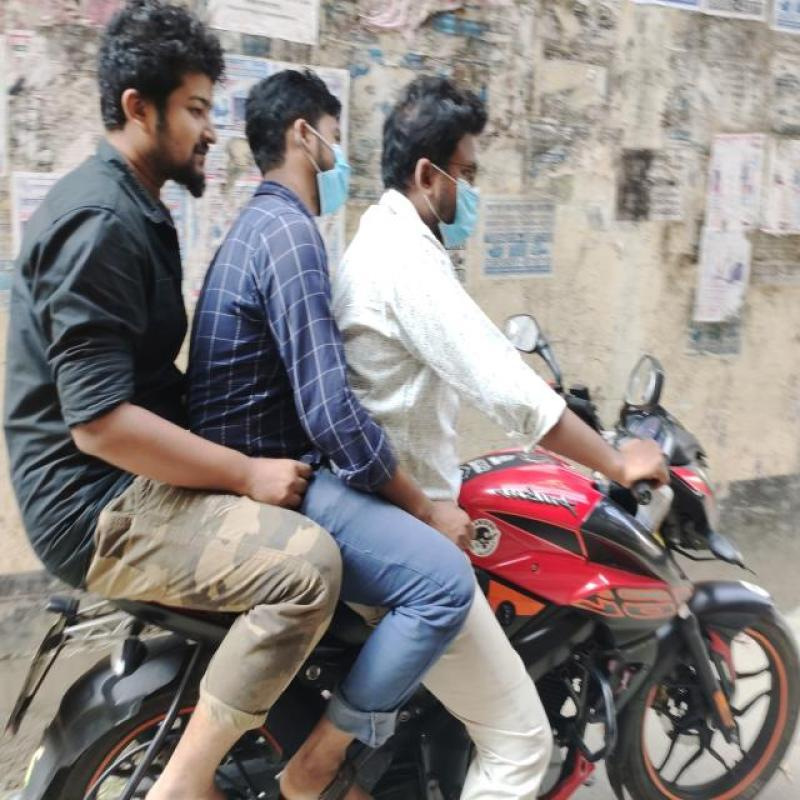nohelmet: (91, 2, 235, 202), (376, 70, 510, 256), (246, 42, 374, 222)
